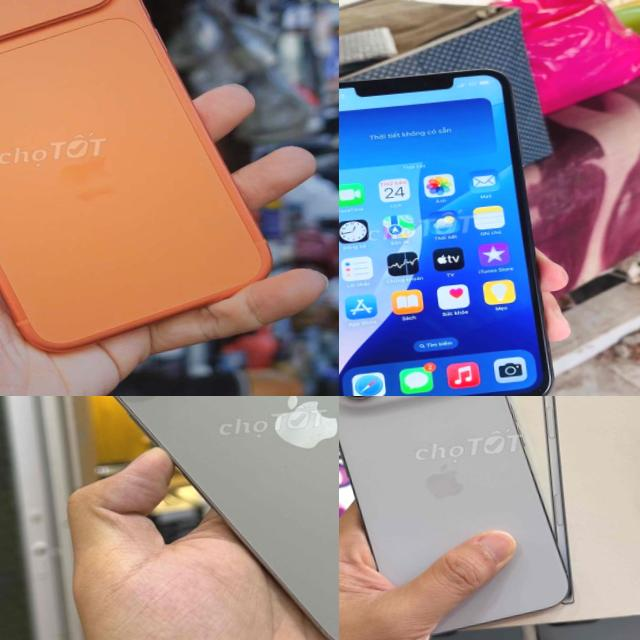gen_16: (47, 396, 339, 640)
gen_17: (0, 0, 293, 368), (339, 396, 581, 638)
gen_x_xs: (339, 43, 582, 396)
